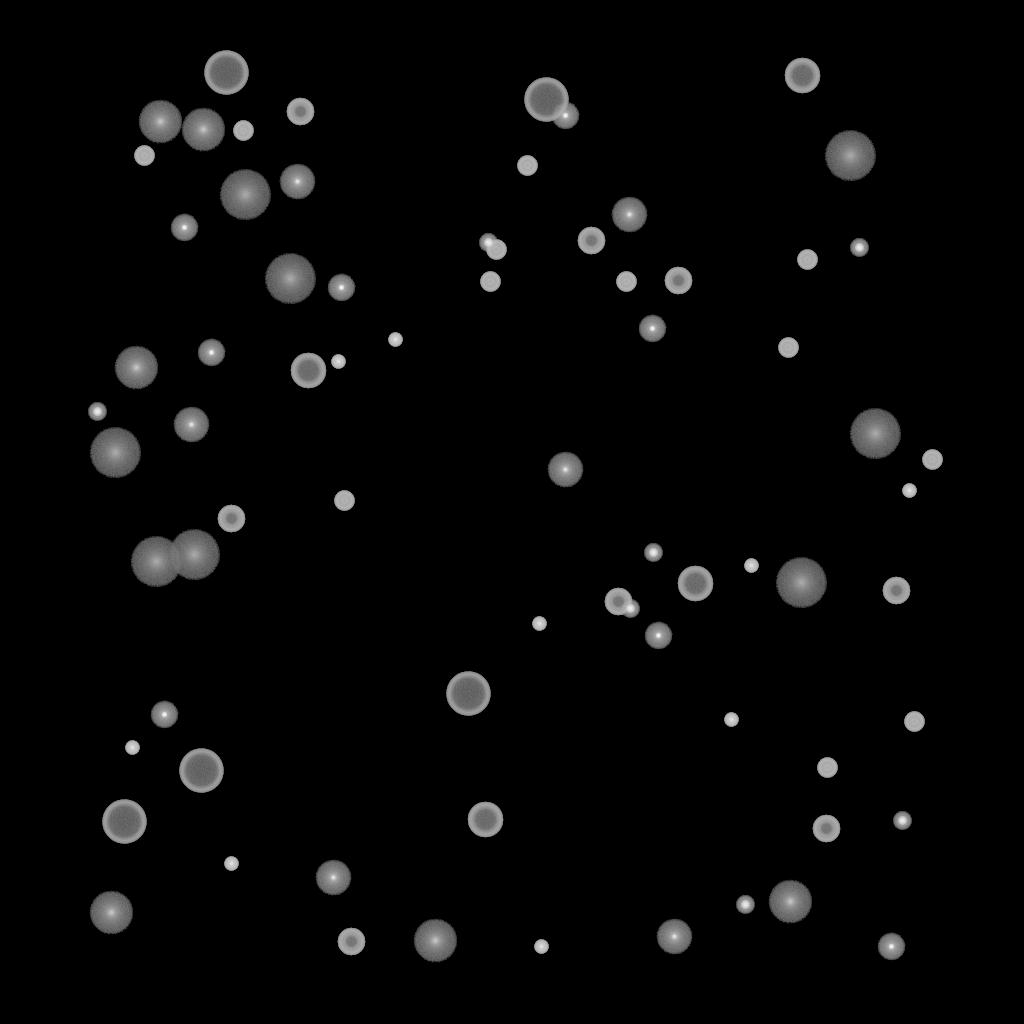depth:-10: (638, 315, 666, 343), (644, 622, 672, 650), (877, 933, 905, 961), (551, 102, 579, 130), (327, 274, 355, 302), (197, 339, 225, 367), (170, 214, 198, 242), (150, 701, 178, 729)
depth:-20: (644, 544, 662, 562), (893, 812, 911, 830), (479, 234, 497, 252), (736, 896, 754, 914), (850, 239, 868, 257), (88, 403, 106, 421), (621, 600, 639, 618)
depth:-30: (388, 333, 402, 347), (534, 940, 548, 954), (724, 713, 738, 727), (125, 741, 139, 755), (224, 857, 238, 871), (331, 355, 345, 369), (902, 484, 916, 498), (532, 617, 546, 631), (744, 559, 758, 573)
depth:-40: (817, 758, 837, 778), (616, 272, 636, 292), (922, 450, 942, 470), (486, 240, 506, 260), (797, 250, 817, 270), (134, 146, 154, 166), (904, 712, 924, 732), (334, 491, 354, 511), (233, 121, 253, 141), (480, 272, 500, 292), (517, 156, 537, 176), (778, 338, 798, 358)
depth:-50: (286, 98, 314, 126), (337, 928, 365, 956), (664, 267, 692, 295), (577, 227, 605, 255), (882, 577, 910, 605), (812, 815, 840, 843), (217, 505, 245, 533), (604, 588, 632, 616)
depth:-60: (467, 802, 503, 838), (290, 353, 326, 389), (677, 566, 713, 602), (784, 58, 820, 94)
depth:-70: (102, 800, 146, 844), (204, 51, 248, 95), (179, 749, 223, 793), (446, 672, 490, 716), (524, 78, 568, 122)
depth:0: (315, 860, 351, 896), (279, 164, 315, 200), (611, 197, 647, 233), (656, 919, 692, 955), (173, 407, 209, 443), (547, 452, 583, 488)
depth:10: (89, 891, 133, 935), (181, 108, 225, 152), (114, 346, 158, 390), (413, 919, 457, 963), (768, 880, 812, 924), (138, 100, 182, 144)
depth:20: (219, 170, 271, 220), (849, 409, 901, 459), (130, 537, 182, 587), (775, 558, 827, 608), (89, 428, 141, 478), (264, 254, 316, 304), (168, 530, 220, 580), (824, 131, 876, 181)
